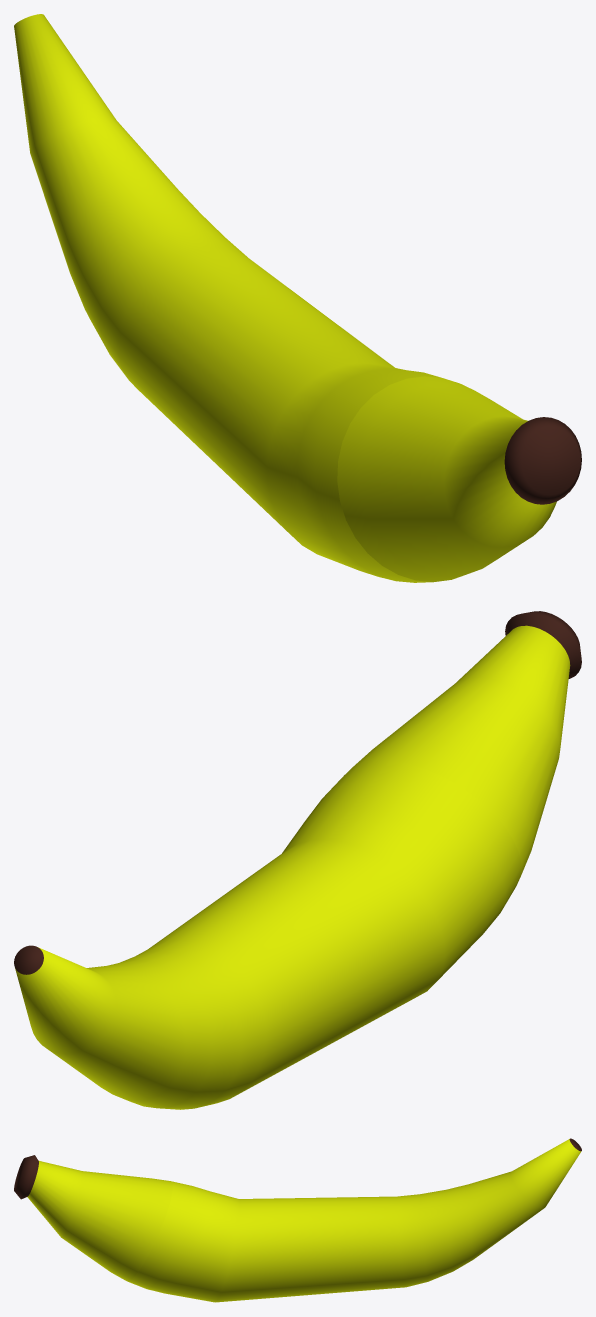
Rendered from bannana.fbx.
3 renders of one model, top to bottom at view 1: azimuth 30°, elevation 25°; view 2: azimuth 150°, elevation 25°; view 3: azimuth 270°, elevation 25°, orthographic. The views are drawn at different scales.
Visible parts, largest first — view 1: banana, banana.001; view 2: banana, banana.001; view 3: banana, banana.001.
Part boxes in pixels (x1=…): banana: x1=14, y1=14, x2=441, y2=582; banana.001: x1=337, y1=376, x2=581, y2=581; banana: x1=14, y1=760, x2=521, y2=1109; banana.001: x1=352, y1=611, x2=581, y2=876; banana: x1=127, y1=1138, x2=581, y2=1302; banana.001: x1=14, y1=1155, x2=172, y2=1281.
Size of the model in its own units: 119 by 183 by 596.
